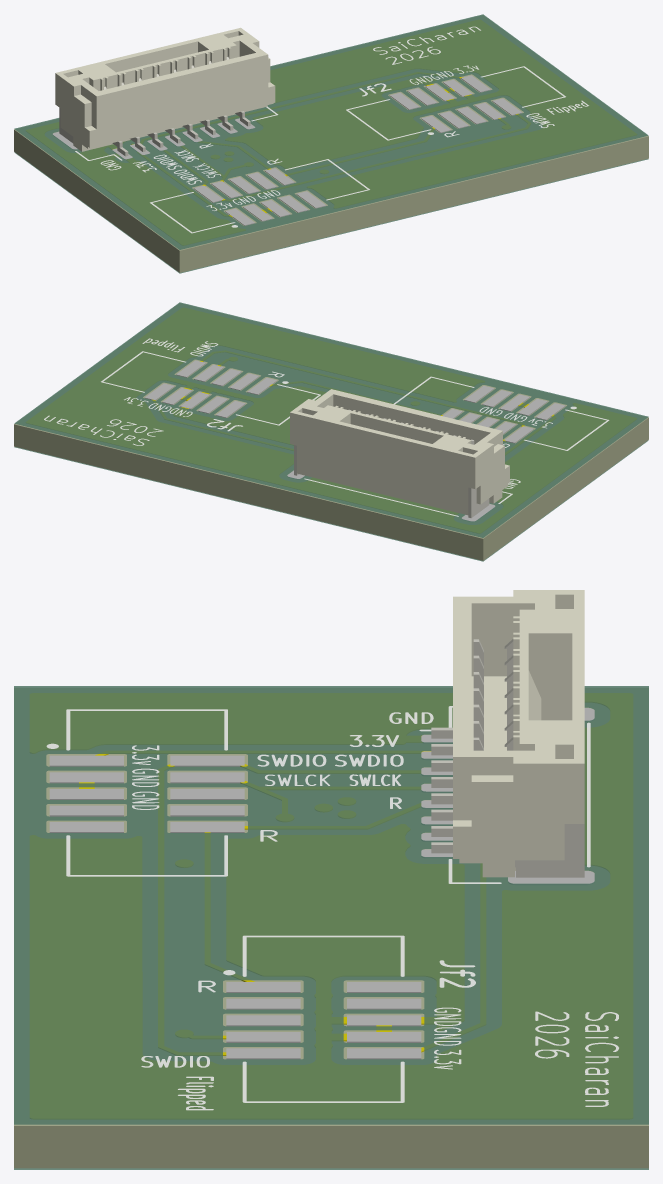
The model's file is aeropcb.glb.
The picture shows the model from 3 angles, top to bottom: view 1: azimuth 30°, elevation 25°; view 2: azimuth 150°, elevation 25°; view 3: azimuth 270°, elevation 25°; orthographic projection. The views are drawn at different scales.
Visible parts, largest first — view 1: =>[0:1:1:7], =>[0:1:1:3], =>[0:1:1:9], J2, =>[0:1:1:4], =>[0:1:1:6], =>[0:1:1:8]; view 2: =>[0:1:1:7], =>[0:1:1:3], =>[0:1:1:9], J2, =>[0:1:1:4], =>[0:1:1:6], =>[0:1:1:8]; view 3: =>[0:1:1:7], =>[0:1:1:3], =>[0:1:1:9], J2, =>[0:1:1:4], =>[0:1:1:6], =>[0:1:1:8].
Boxes of the visible parts, x1,y1,x2,y2 form: =>[0:1:1:7]: (14, 14, 648, 249); =>[0:1:1:3]: (26, 20, 636, 245); =>[0:1:1:9]: (14, 16, 648, 272); J2: (55, 27, 275, 156); =>[0:1:1:4]: (53, 75, 522, 225); =>[0:1:1:6]: (75, 26, 588, 233); =>[0:1:1:8]: (14, 152, 648, 273); =>[0:1:1:7]: (14, 302, 648, 537); =>[0:1:1:3]: (26, 308, 636, 533); =>[0:1:1:9]: (14, 304, 648, 560); J2: (290, 389, 509, 517); =>[0:1:1:4]: (144, 360, 565, 521); =>[0:1:1:6]: (44, 338, 609, 516); =>[0:1:1:8]: (14, 440, 648, 561); =>[0:1:1:7]: (14, 686, 648, 1124); =>[0:1:1:3]: (30, 693, 632, 1118); =>[0:1:1:9]: (14, 688, 648, 1168); J2: (431, 590, 584, 877); =>[0:1:1:4]: (49, 708, 594, 1059); =>[0:1:1:6]: (46, 706, 618, 1110); =>[0:1:1:8]: (14, 1168, 648, 1169).
Bounding box in the file's own units: 0.0335 × 0.00584 × 0.0205.
